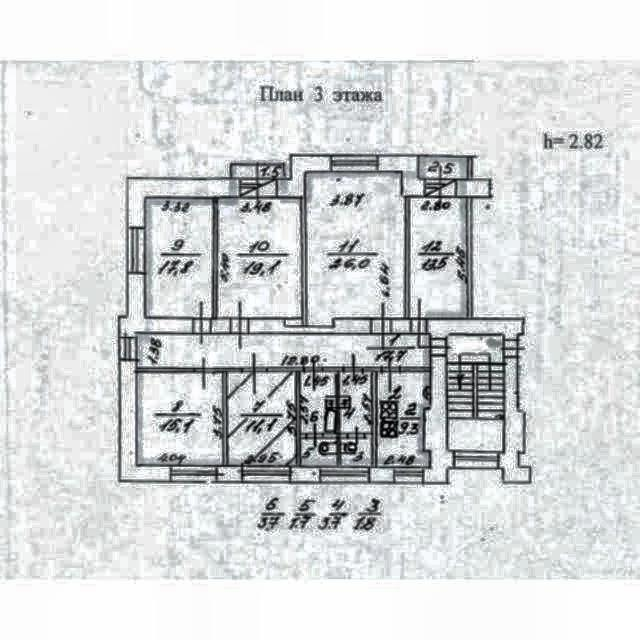room: (306, 172, 405, 327), (217, 199, 301, 318), (137, 334, 429, 368), (138, 372, 222, 466), (146, 199, 213, 316), (447, 335, 504, 451), (410, 199, 466, 317), (228, 372, 295, 464), (378, 373, 430, 467), (301, 372, 336, 433), (341, 372, 370, 433), (301, 439, 336, 465), (342, 438, 370, 465), (232, 166, 283, 178)
